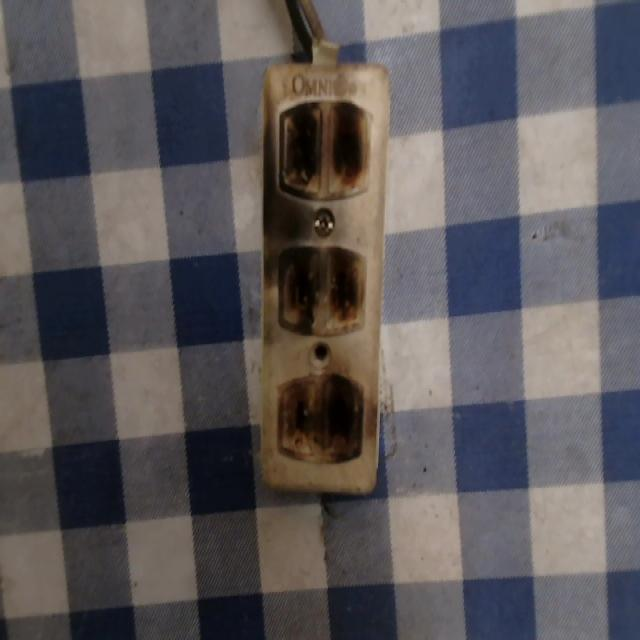-: (275, 94, 372, 202), (274, 365, 366, 468), (274, 241, 368, 336)
